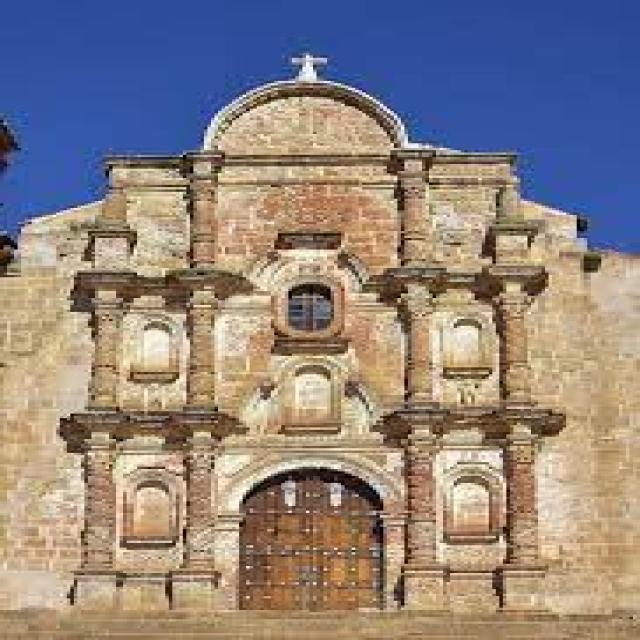CUPULA: (0, 13, 610, 619)
SIMETRIA COLONIAL: (227, 453, 412, 620)
